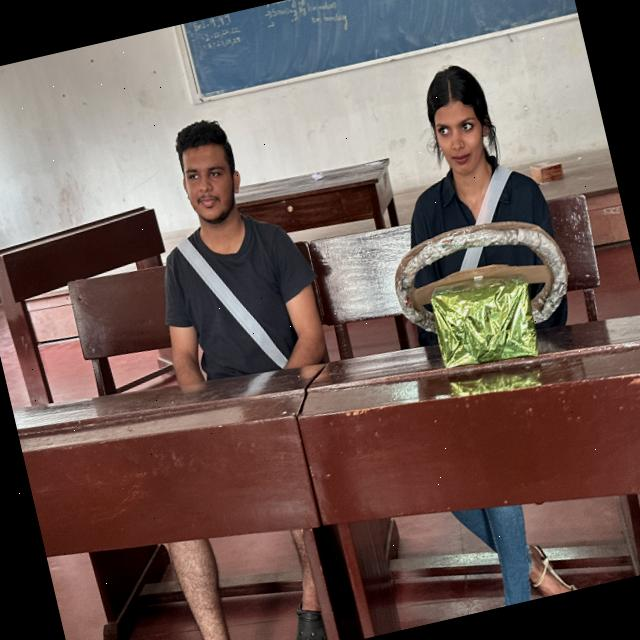seatbelt: (120, 194, 390, 393), (125, 196, 382, 377), (370, 162, 581, 328), (372, 332, 384, 351)
